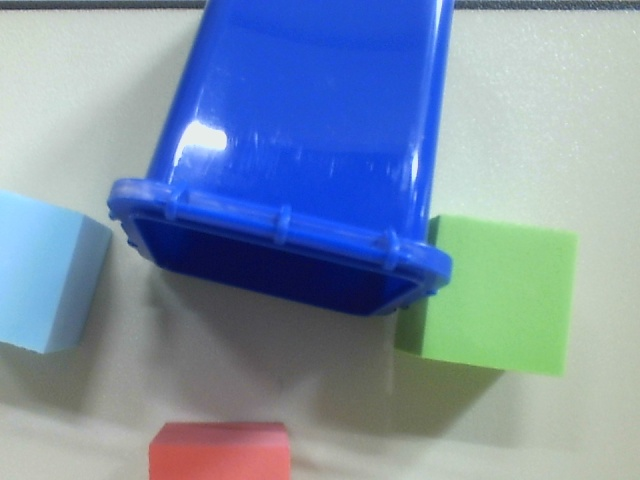greencube: (397, 209, 588, 383)
